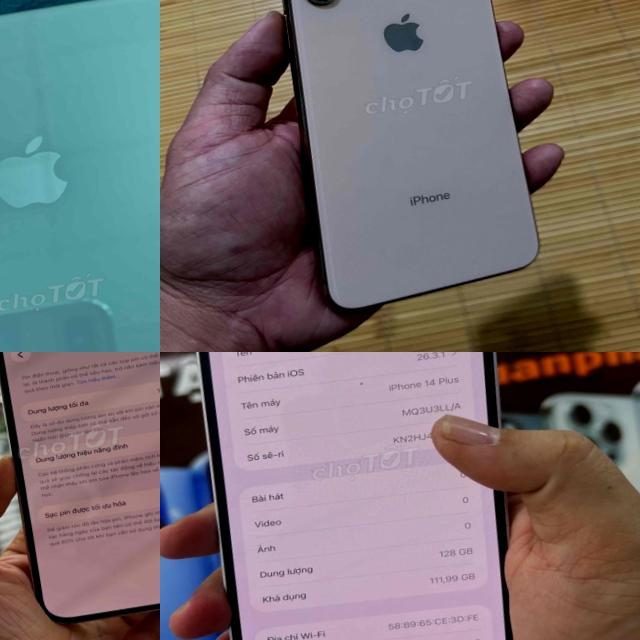gen_14: (165, 352, 534, 640), (0, 352, 160, 640)
gen_x_xs: (273, 0, 552, 323), (0, 0, 160, 352)
